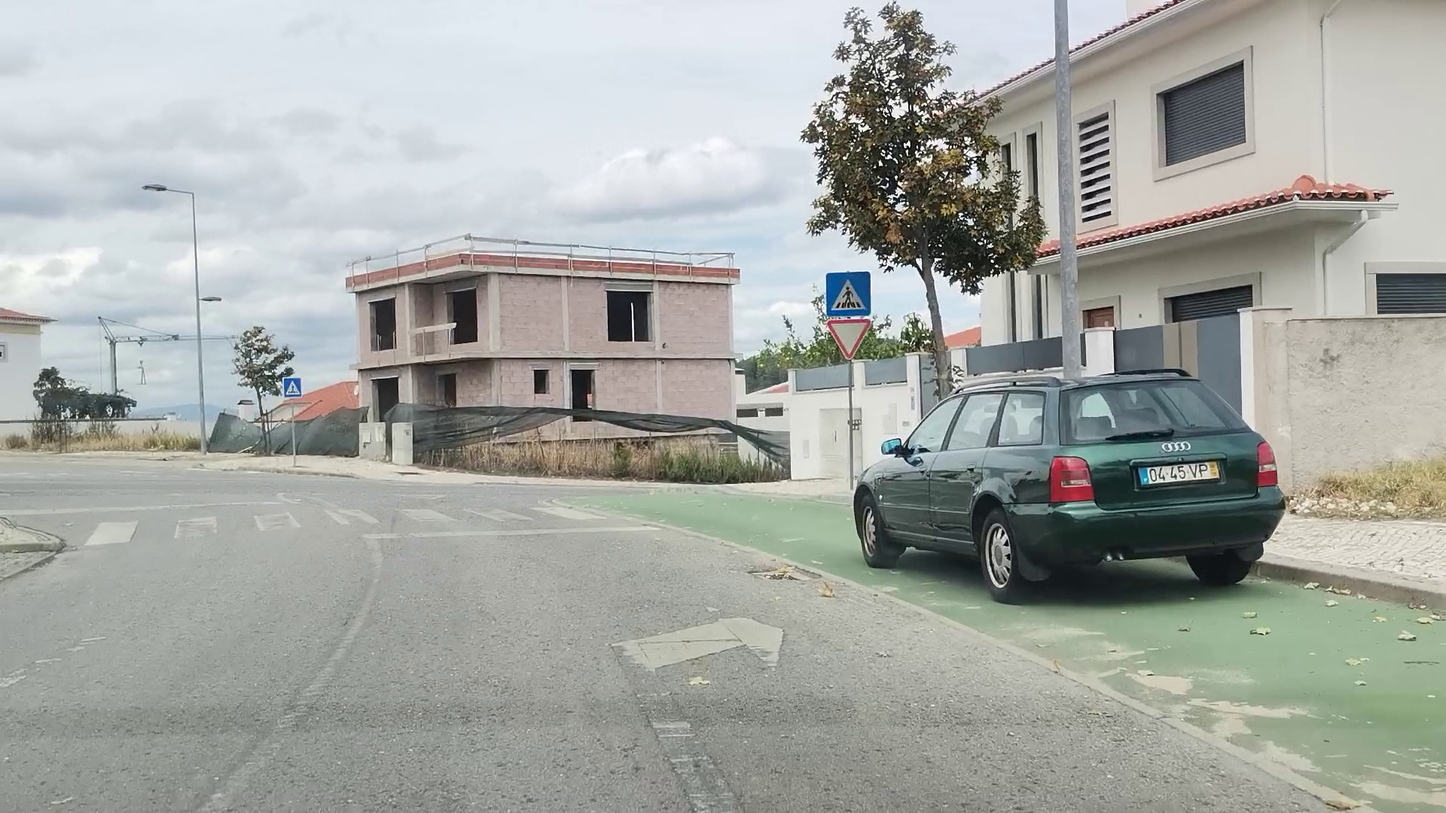Stairs: (75, 501, 609, 547)
